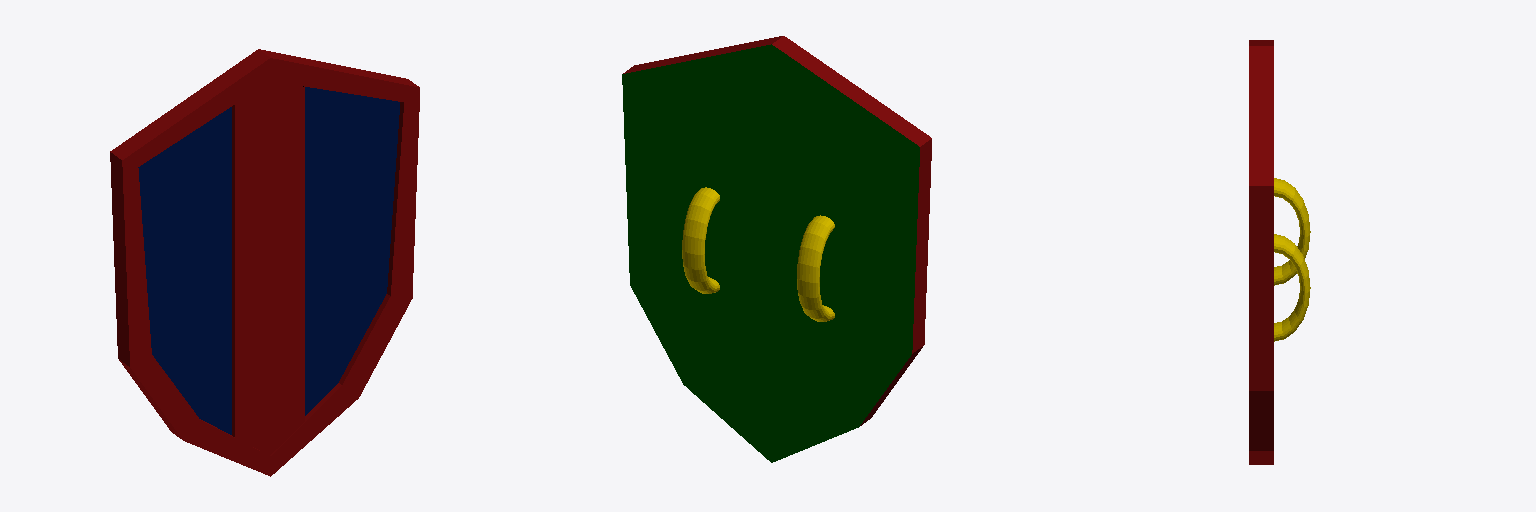
The model's file is Texture_Shield.obj.
3 renders of one model, left to right at view 1: azimuth 30°, elevation 25°; view 2: azimuth 150°, elevation 25°; view 3: azimuth 270°, elevation 25°, orthographic.
Visible parts, largest first — view 1: Shield; view 2: Shield; view 3: Shield.
Part boxes in pixels (bbox=[...]): Shield: bbox=[110, 49, 419, 476]; Shield: bbox=[622, 36, 931, 462]; Shield: bbox=[1249, 40, 1310, 464].
Size of the model in its own units: 4.24 by 5.69 by 0.7541.